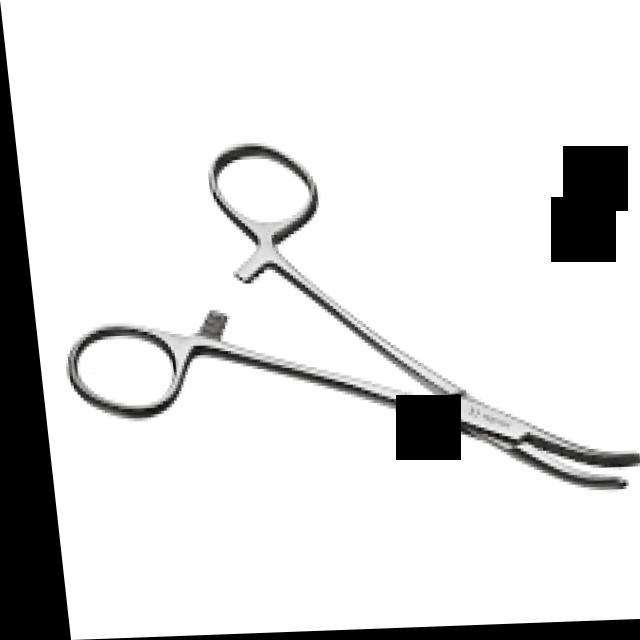Artery Forceps: (32, 126, 640, 519)
